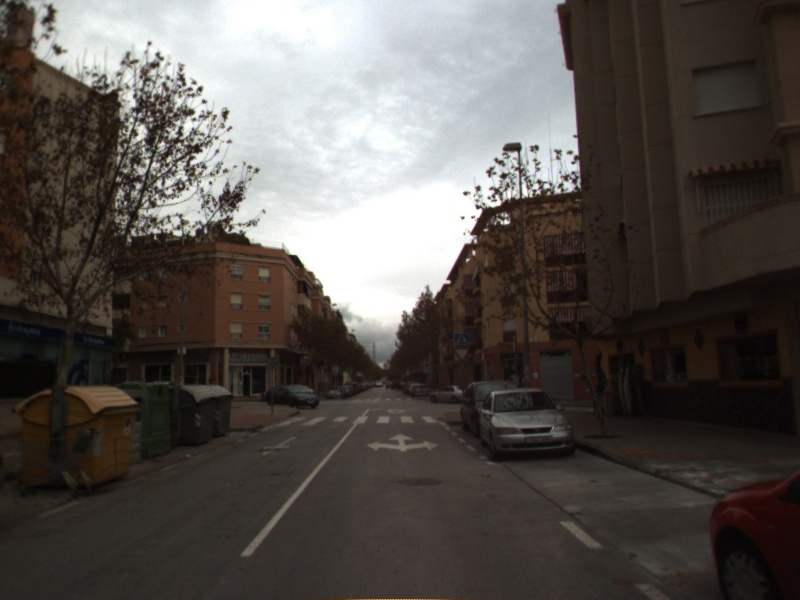STRAIGHT_LEFT_RIGHT: (365, 431, 441, 454)
